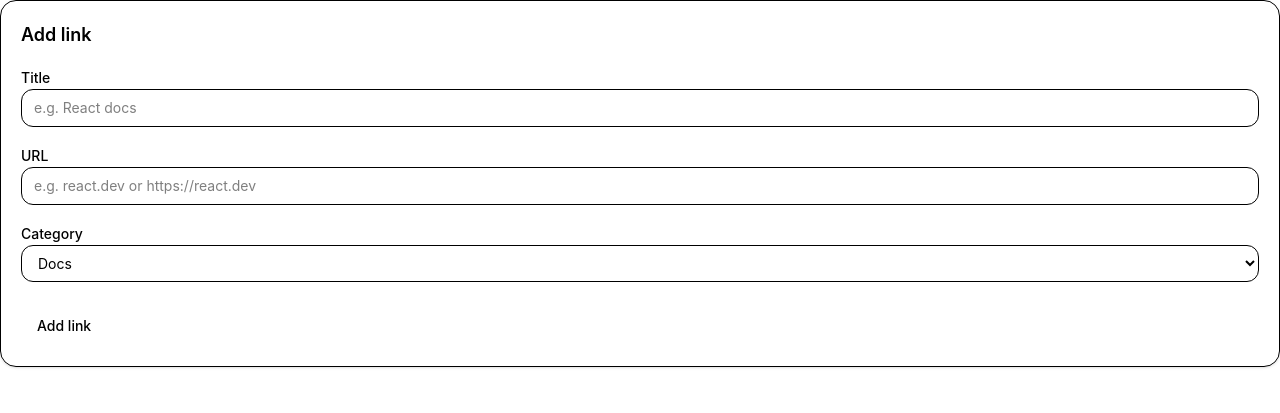
Test: LinkForm › does not submit when URL is invalid
In the field labelled "Title": x=640, y=108 left=21, top=89, right=1259, bottom=127, type "React docs"
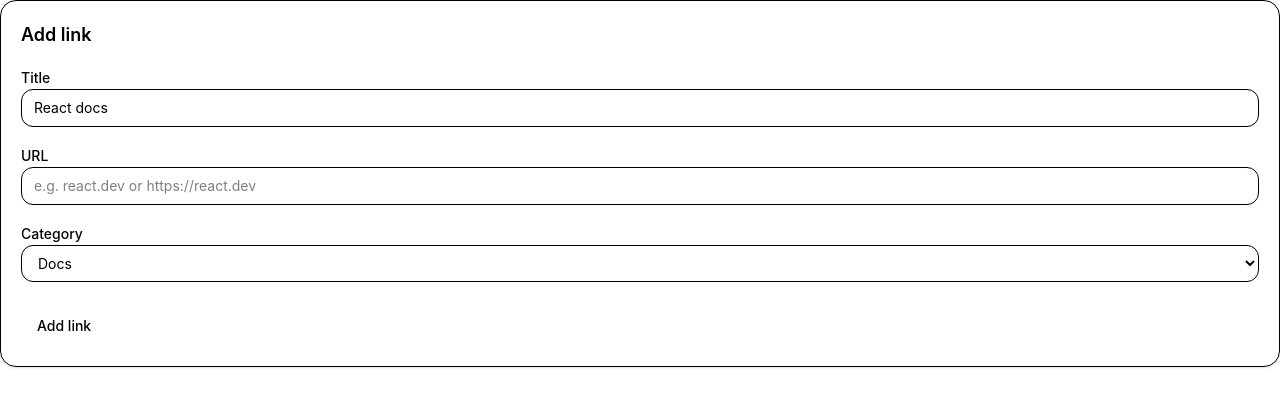
In the field labelled "URL": x=640, y=186 left=21, top=167, right=1259, bottom=205, type "https://"
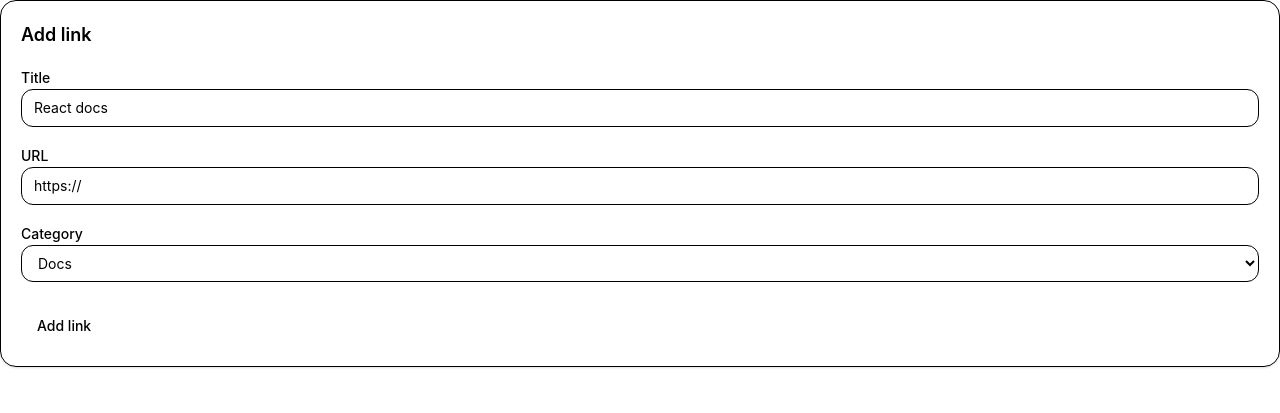
Click the button "Add link": x=64, y=326 left=21, top=306, right=107, bottom=346
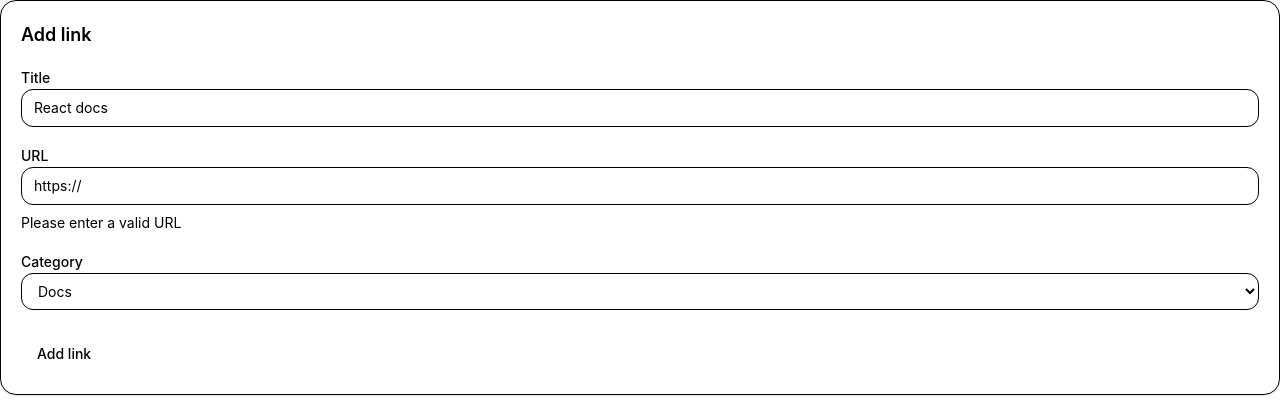
Check: the text "Please enter a valid URL" is shown, box left=21, top=214, right=181, bottom=231
